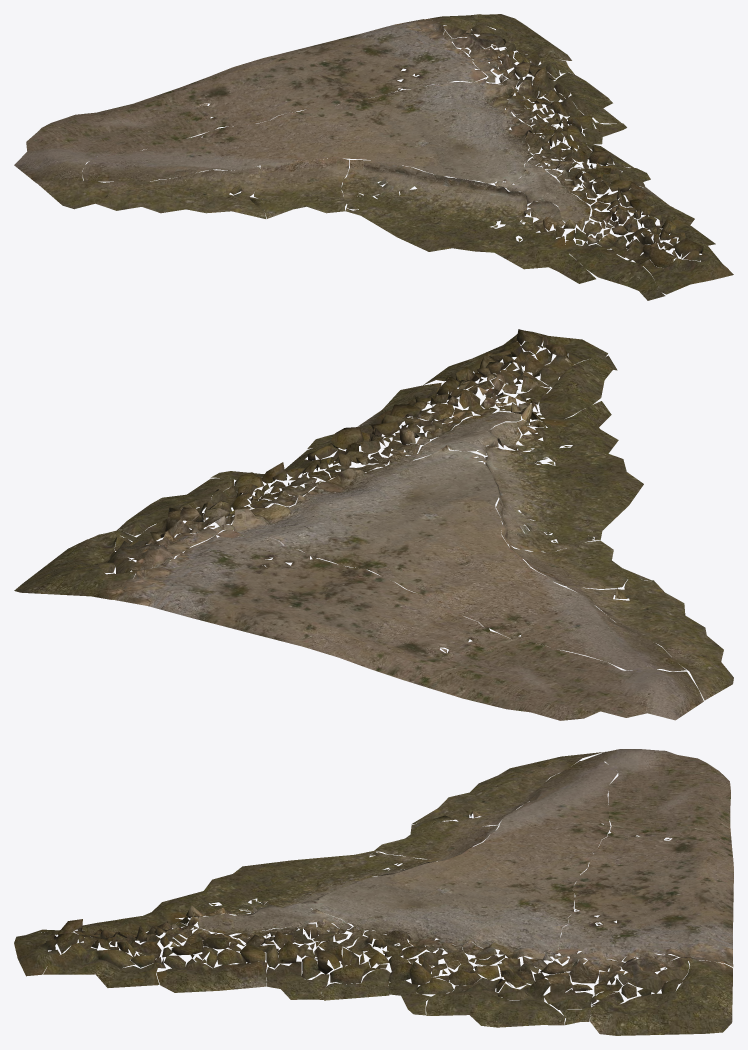
The model's file is coast_rocks_02.glb.
The picture shows the model from 3 angles, top to bottom: view 1: azimuth 30°, elevation 25°; view 2: azimuth 150°, elevation 25°; view 3: azimuth 270°, elevation 25°; orthographic projection. The views are drawn at different scales.
Visible parts, largest first — view 1: coast_rocks_02; view 2: coast_rocks_02; view 3: coast_rocks_02.
Part boxes in pixels (x1,y1,x2,y2): coast_rocks_02: [14, 14, 733, 300]; coast_rocks_02: [14, 329, 733, 720]; coast_rocks_02: [14, 749, 733, 1035].
Size of the model in its own units: 45.95 by 2.98 by 49.44.
1 material, 1 textured.
